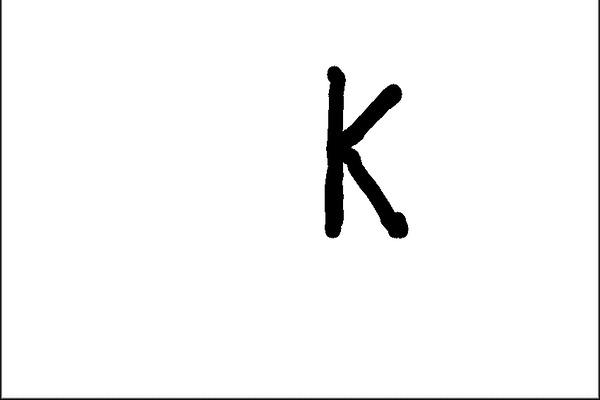K: (312, 60, 419, 249)
